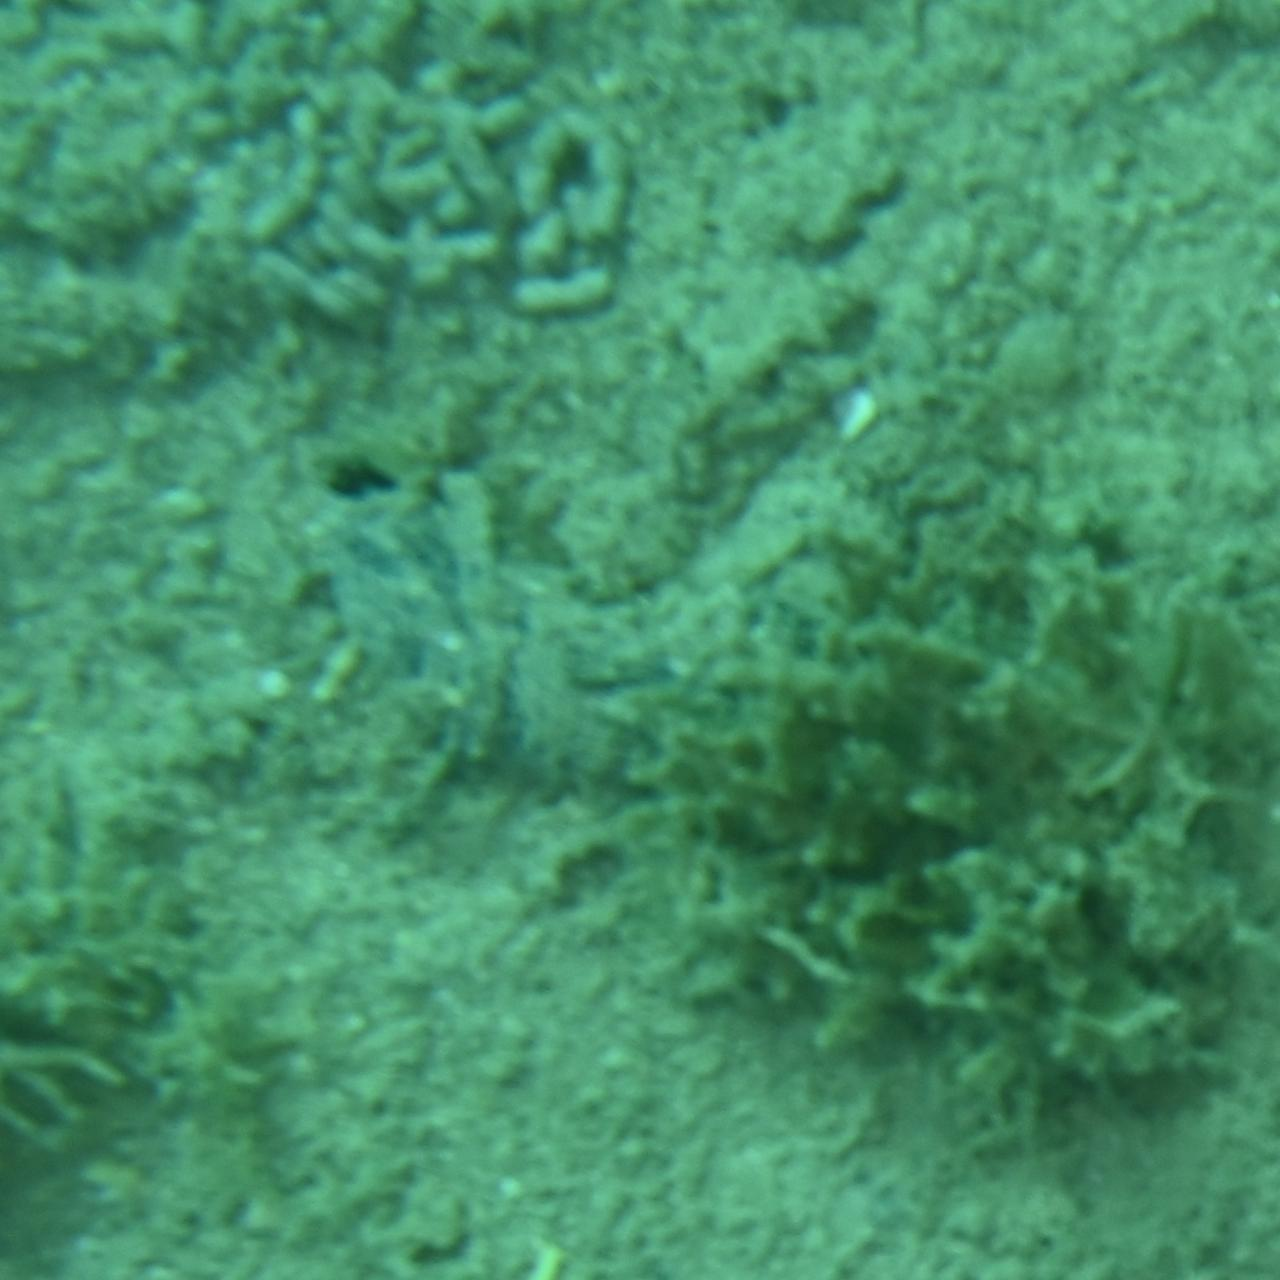Holothuria tubulosa: (312, 438, 968, 842)
